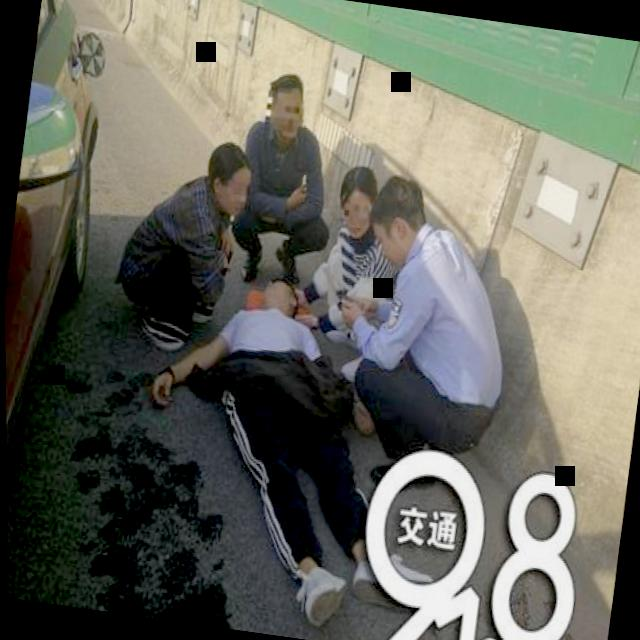Fall-Detected: (118, 235, 463, 640)
